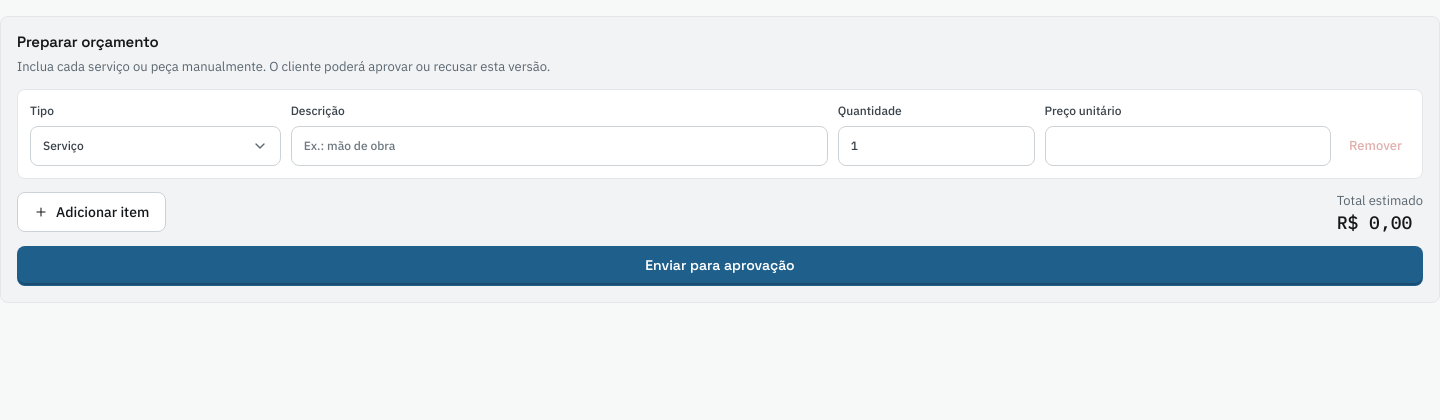
Test: EstimateForm › permite adicionar e remover itens do orçamento
This screenshot has width=1440, height=420.
Expected: the number of fields labelled "Descrição" is 1, left=291, top=126, right=828, bottom=166
What coordinates should you click on to do the following:
click the button "Adicionar item"
I would click on:
 (92, 212)
Its box is left=17, top=192, right=166, bottom=232.
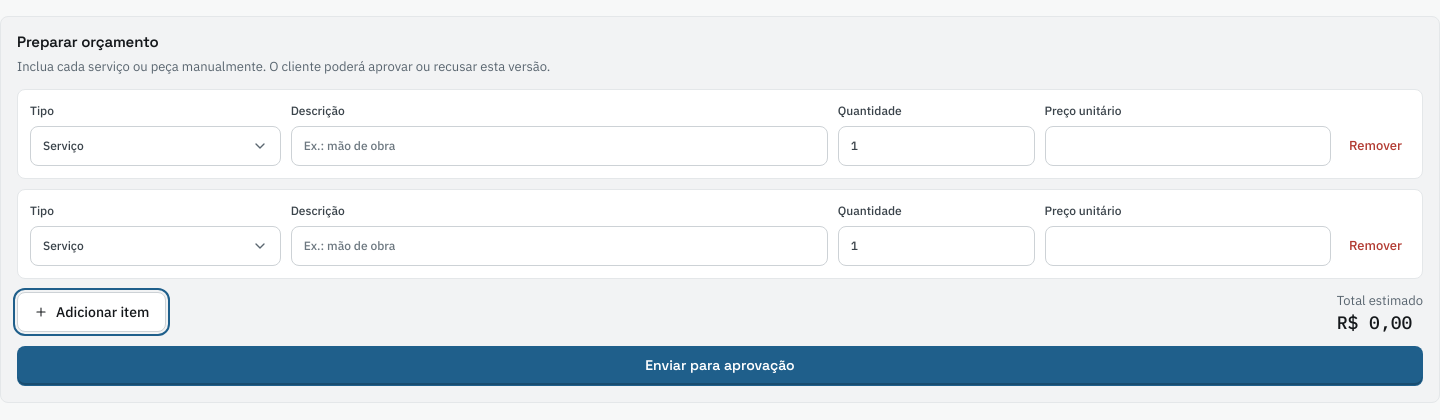
Expected: the number of fields labelled "Descrição" is 2, left=291, top=126, right=828, bottom=166; left=291, top=226, right=828, bottom=266
What coordinates should you click on to do the following:
click the button with aria-label "remover item"
I would click on:
 (1376, 146)
Its box is left=1341, top=126, right=1410, bottom=166.
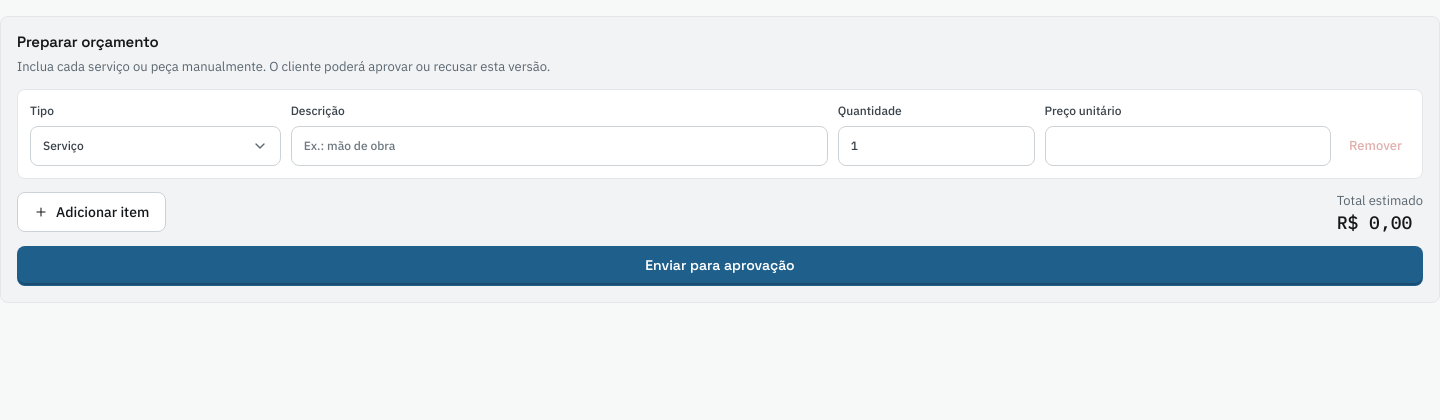
Expected: the number of fields labelled "Descrição" is 1, left=291, top=126, right=828, bottom=166
